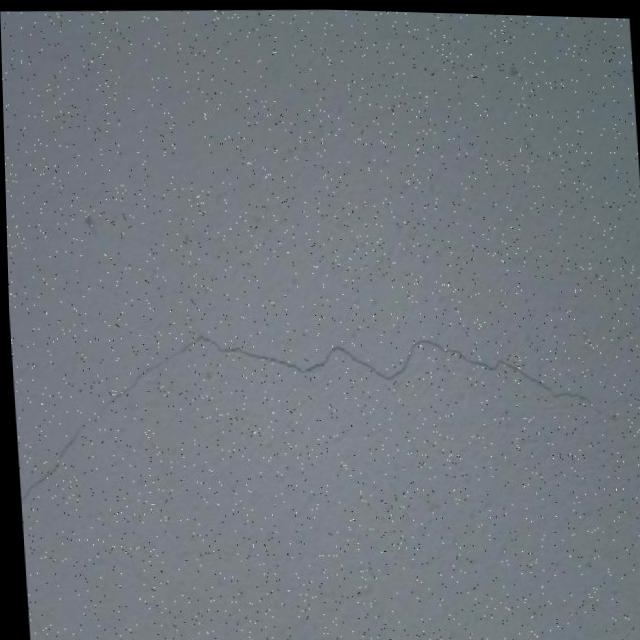Crack: (7, 309, 617, 517)
